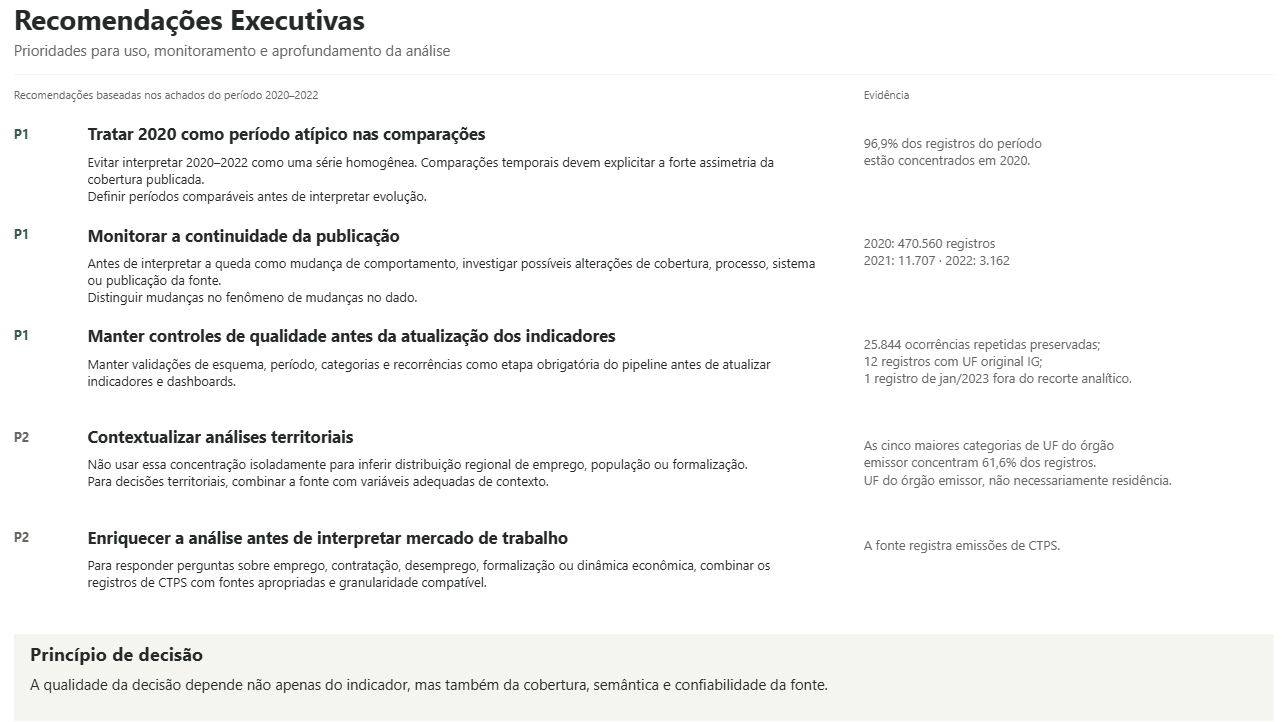

Layout of this report page (visuals, bound fields, positions):
{"tool":"powerbi","page":{"name":"Recomendações Executivas","canvas":[1920,1080],"ordinal":4},"visuals":[{"type":"shape","box":[48,137,1824,1],"z":10},{"type":"shape","box":[48,948,1824,126],"z":10},{"type":"textbox","box":[48,30,1776,62],"z":1000},{"type":"textbox","box":[48,88,1824,44],"z":1000},{"type":"textbox","box":[48,155,1168,40],"z":1000},{"type":"textbox","box":[1280,155,592,40],"z":1000},{"type":"textbox","box":[156,208,1060,44],"z":1000},{"type":"textbox","box":[48,211,72,42],"z":1000},{"type":"textbox","box":[1280,224,592,117],"z":1000},{"type":"textbox","box":[156,252,1060,90],"z":1000},{"type":"textbox","box":[156,354,1060,44],"z":1000},{"type":"textbox","box":[48,357,72,42],"z":1000},{"type":"textbox","box":[1280,370,592,117],"z":1000},{"type":"textbox","box":[156,398,1060,90],"z":1000},{"type":"textbox","box":[156,500,1060,44],"z":1000},{"type":"textbox","box":[48,503,72,42],"z":1000},{"type":"textbox","box":[1280,516,592,117],"z":1000},{"type":"textbox","box":[156,544,1060,90],"z":1000},{"type":"textbox","box":[156,646,1060,44],"z":1000},{"type":"textbox","box":[48,649,72,42],"z":1000},{"type":"textbox","box":[1280,662,592,117],"z":1000},{"type":"textbox","box":[156,690,1060,90],"z":1000},{"type":"textbox","box":[156,792,1060,44],"z":1000},{"type":"textbox","box":[48,795,72,42],"z":1000},{"type":"textbox","box":[1280,808,592,117],"z":1000},{"type":"textbox","box":[156,836,1060,90],"z":1000},{"type":"textbox","box":[72,960,1776,44],"z":1000},{"type":"textbox","box":[72,1007,1776,57],"z":1000}]}

Visuals, with their boxes in screenshot pixels (x1, y1, x2, y2), scaled from the page's 1920x1080 canvas onto the 1282x722 screenshot:
shape: pyautogui.locateOnScreen(32, 634, 1250, 718)
textbox: pyautogui.locateOnScreen(32, 20, 1218, 62)
textbox: pyautogui.locateOnScreen(32, 59, 1250, 88)
textbox: pyautogui.locateOnScreen(32, 104, 812, 130)
textbox: pyautogui.locateOnScreen(855, 104, 1250, 130)
textbox: pyautogui.locateOnScreen(104, 139, 812, 168)
textbox: pyautogui.locateOnScreen(32, 141, 80, 169)
textbox: pyautogui.locateOnScreen(855, 150, 1250, 228)
textbox: pyautogui.locateOnScreen(104, 168, 812, 229)
textbox: pyautogui.locateOnScreen(104, 237, 812, 266)
textbox: pyautogui.locateOnScreen(32, 239, 80, 267)
textbox: pyautogui.locateOnScreen(855, 247, 1250, 326)
textbox: pyautogui.locateOnScreen(104, 266, 812, 326)
textbox: pyautogui.locateOnScreen(104, 334, 812, 364)
textbox: pyautogui.locateOnScreen(32, 336, 80, 364)
textbox: pyautogui.locateOnScreen(855, 345, 1250, 423)
textbox: pyautogui.locateOnScreen(104, 364, 812, 424)
textbox: pyautogui.locateOnScreen(104, 432, 812, 461)
textbox: pyautogui.locateOnScreen(32, 434, 80, 462)
textbox: pyautogui.locateOnScreen(855, 443, 1250, 521)
textbox: pyautogui.locateOnScreen(104, 461, 812, 521)
textbox: pyautogui.locateOnScreen(104, 529, 812, 559)
textbox: pyautogui.locateOnScreen(32, 531, 80, 560)
textbox: pyautogui.locateOnScreen(855, 540, 1250, 618)
textbox: pyautogui.locateOnScreen(104, 559, 812, 619)
textbox: pyautogui.locateOnScreen(48, 642, 1234, 671)
textbox: pyautogui.locateOnScreen(48, 673, 1234, 711)
